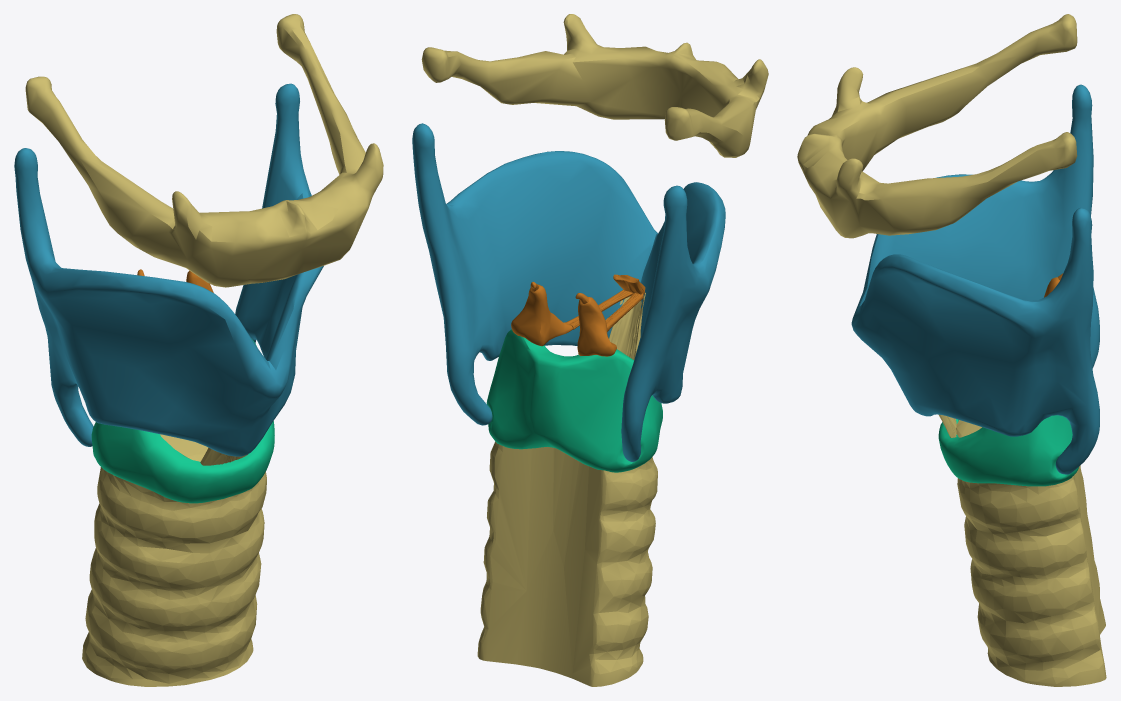
The model's file is fbx_frame_0042.obj.
The picture shows the model from 3 angles, left to right: view 1: azimuth 30°, elevation 25°; view 2: azimuth 150°, elevation 25°; view 3: azimuth 270°, elevation 25°; orthographic projection. The views are drawn at different scales.
Visible parts, largest first — view 1: maya2sketchfab.010, maya2sketchfab.001, maya2sketchfab.011, maya2sketchfab.005; view 2: maya2sketchfab.010, maya2sketchfab.001, maya2sketchfab.011, maya2sketchfab.005, maya2sketchfab.006, maya2sketchfab.004; view 3: maya2sketchfab.010, maya2sketchfab.001, maya2sketchfab.011, maya2sketchfab.005.
Part boxes in pixels (x1,y1,x2,y2): maya2sketchfab.010: [14, 83, 323, 456]; maya2sketchfab.001: [82, 434, 266, 686]; maya2sketchfab.011: [25, 14, 383, 287]; maya2sketchfab.005: [91, 338, 274, 503]; maya2sketchfab.010: [412, 123, 725, 461]; maya2sketchfab.001: [477, 292, 657, 686]; maya2sketchfab.011: [421, 14, 768, 157]; maya2sketchfab.005: [486, 329, 662, 472]; maya2sketchfab.006: [511, 281, 573, 346]; maya2sketchfab.004: [575, 293, 616, 356]; maya2sketchfab.010: [851, 84, 1099, 474]; maya2sketchfab.001: [939, 414, 1106, 686]; maya2sketchfab.011: [797, 14, 1077, 238]; maya2sketchfab.005: [938, 415, 1078, 486].
Size of the model in its own units: 38.66 by 78.56 by 38.21.
